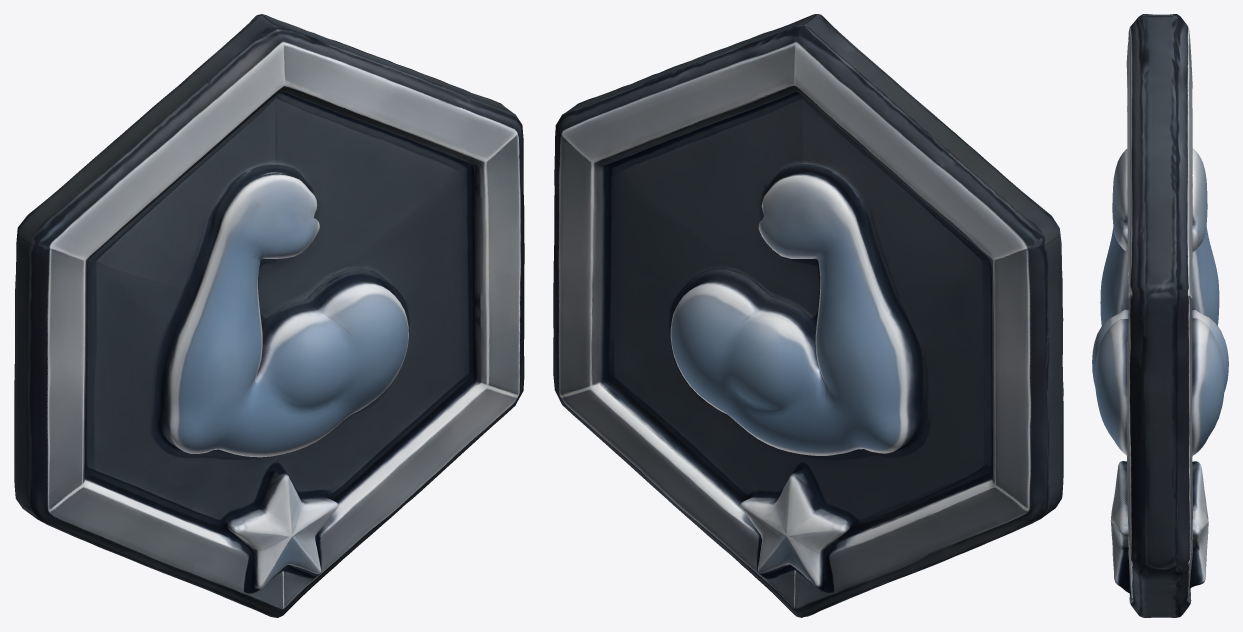
Rendered from silver.glb.
The picture shows the model from 3 angles, left to right: view 1: azimuth 30°, elevation 25°; view 2: azimuth 150°, elevation 25°; view 3: azimuth 270°, elevation 25°; orthographic projection.
Visible parts, largest first — view 1: model; view 2: model; view 3: model.
Boxes of the visible parts, x1,y1,x2,y2 form: model: (14,14,524,617); model: (553,14,1063,617); model: (1092,14,1228,617).
Bounding box in the file's own units: 1.67 × 1.9 × 0.3911.
Materials: 1 (1 with a texture image).
